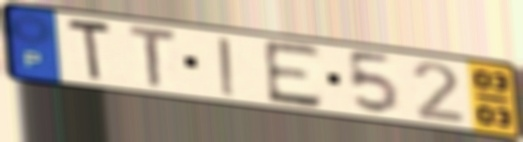2: (409, 60, 468, 124)
5: (344, 47, 403, 118)
E: (260, 38, 326, 111)
I: (215, 35, 240, 99)
T: (126, 23, 181, 91), (64, 16, 116, 84)
